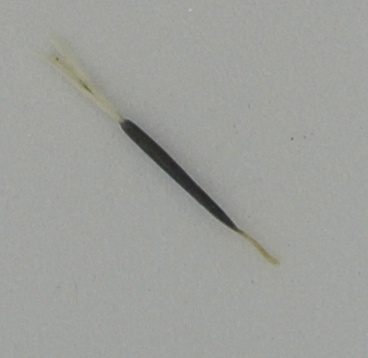เมล็ดดีเรียวยาว: (42, 34, 280, 268)
